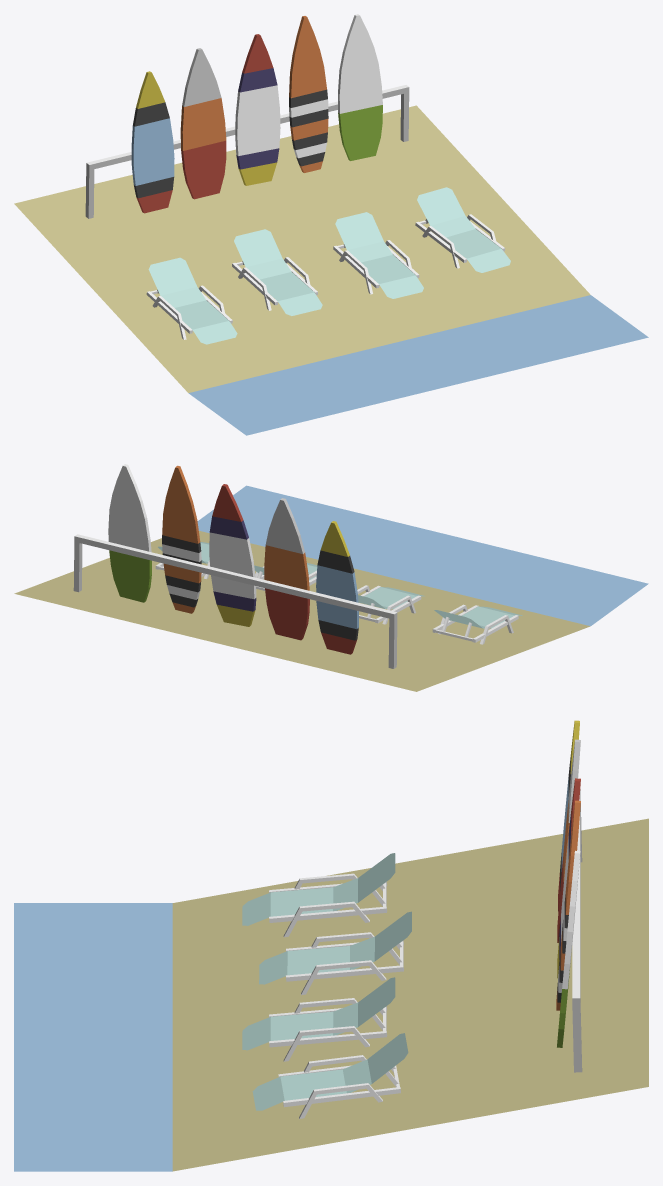
File: beach_tile_1x1_004.glb
3 views of the same model, one above another, from view 1: azimuth 30°, elevation 25°; view 2: azimuth 150°, elevation 25°; view 3: azimuth 270°, elevation 25° (orthographic). The views are drawn at different scales.
Parts seen in each view (by area): view 1: beach_tile_1x1_004; view 2: beach_tile_1x1_004; view 3: beach_tile_1x1_004.
Boxes of the visible parts, x1,y1,x2,y2 form: beach_tile_1x1_004: [14, 14, 648, 435]; beach_tile_1x1_004: [14, 464, 648, 691]; beach_tile_1x1_004: [14, 720, 648, 1171].
Size of the model in its own units: 8 by 3.87 by 8.
1 material, 1 textured.
